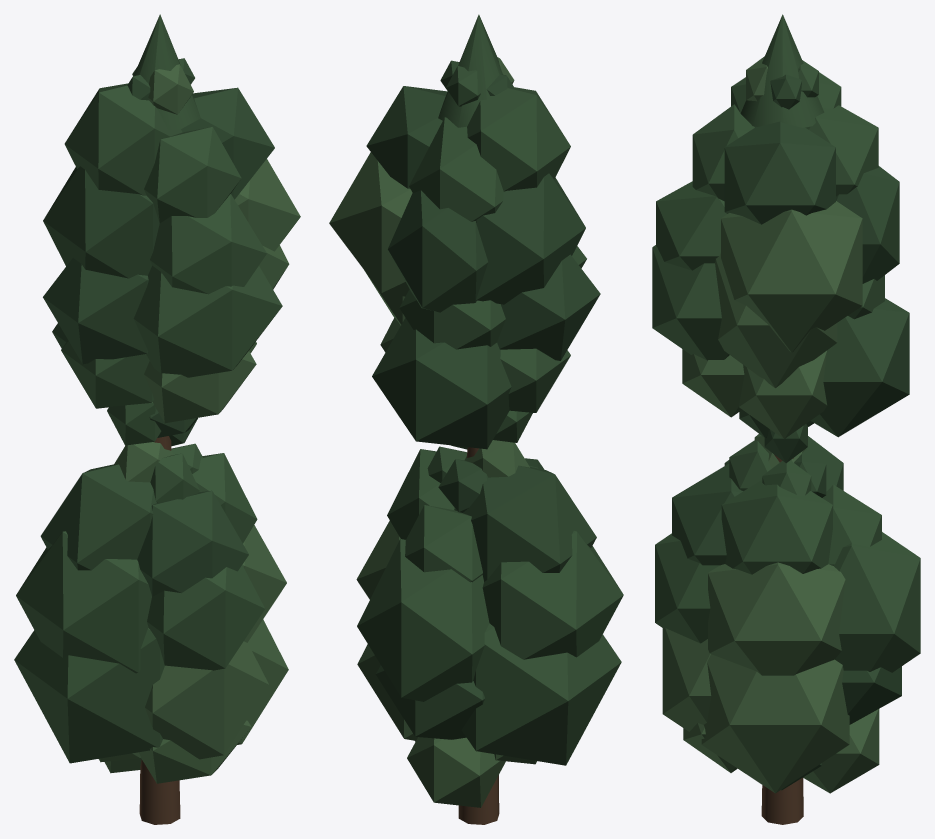
Rendered from tree_cypress_mid.glb.
3 renders of one model, left to right at view 1: azimuth 30°, elevation 25°; view 2: azimuth 150°, elevation 25°; view 3: azimuth 270°, elevation 25°, orthographic.
Bounding box in the file's own units: 3.21 × 10.07 × 3.05.
